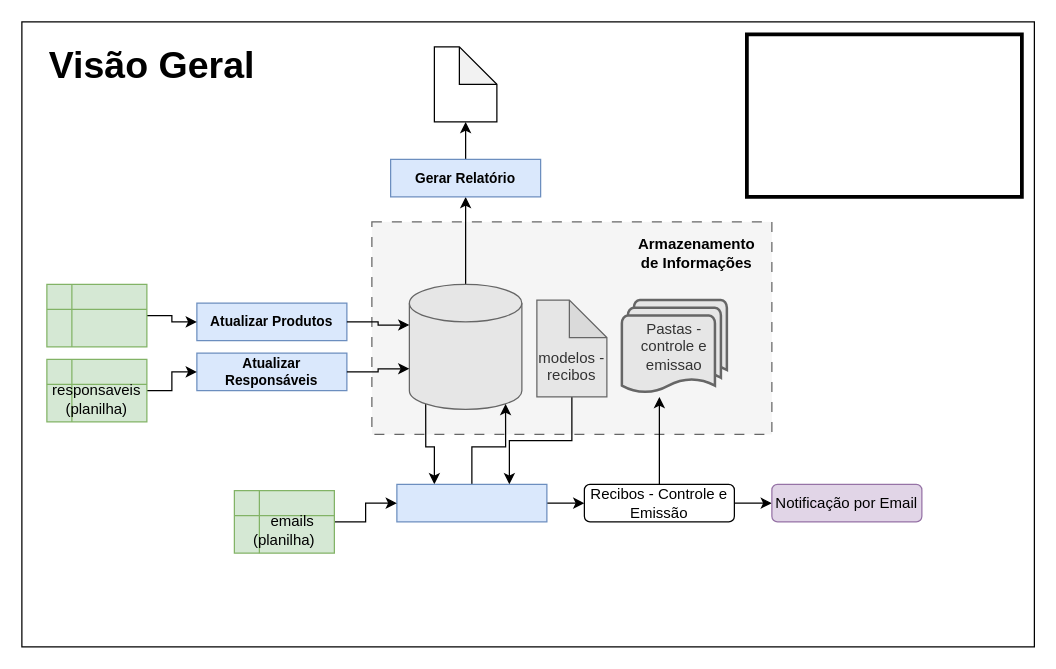
Some shapes in this 1056 by 669 pixel diagram are drawn without their labels. The centre of each missing label's shape, as x and y in pixels:
Gerar Recibo: the point at 471,502
produtos (planilha): the point at 96,315
recibos.db: the point at 465,346
Relatório: the point at 465,84
Sistema de Emissão de Recibos (SER): the point at 883,115
